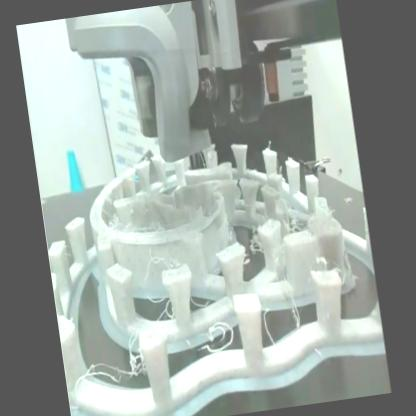fail: (81, 344, 147, 397), (193, 320, 237, 357), (282, 208, 306, 239), (243, 224, 264, 257)
